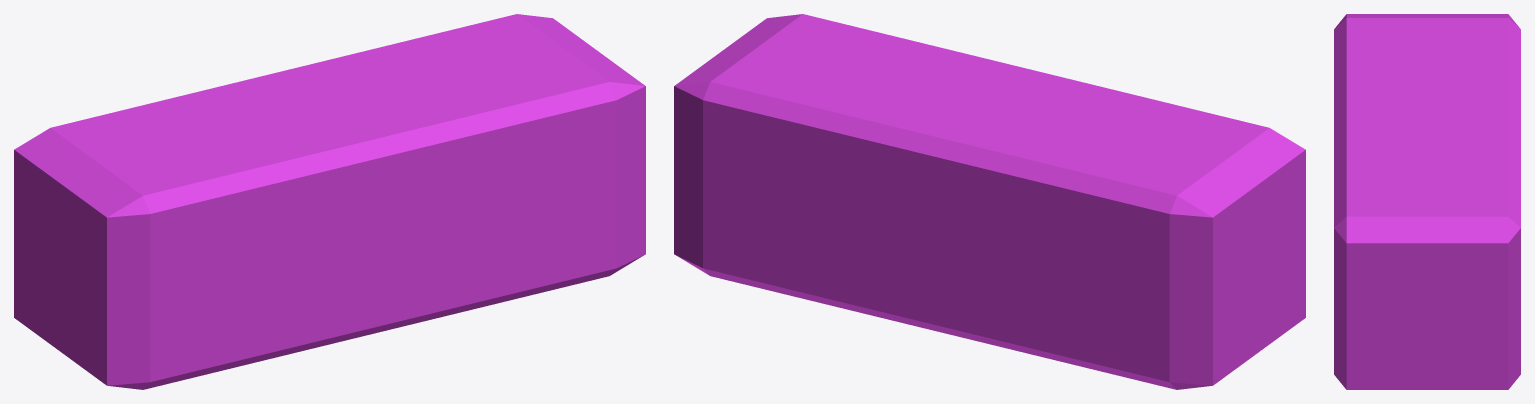
Rendered from YogaBlockPurple.fbx.
3 views of the same model, side by side, from view 1: azimuth 30°, elevation 25°; view 2: azimuth 150°, elevation 25°; view 3: azimuth 270°, elevation 25° (orthographic). The views are drawn at different scales.
Parts seen in each view (by area): view 1: Cube; view 2: Cube; view 3: Cube.
Boxes of the visible parts, bbox=[...] form: Cube: bbox=[14, 14, 645, 389]; Cube: bbox=[674, 14, 1305, 389]; Cube: bbox=[1334, 14, 1520, 389].
Bounding box in the file's own units: 581 × 200 × 200.
